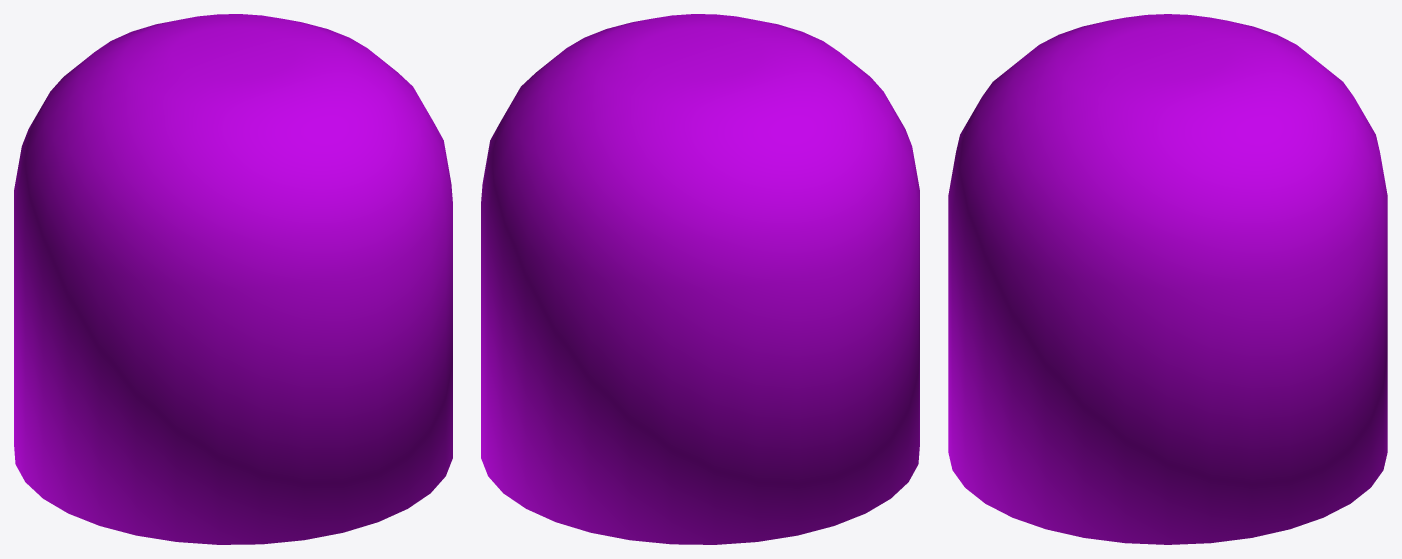
File: AnomalyBoton2Bolita.fbx
3 views of the same model, side by side, from view 1: azimuth 30°, elevation 25°; view 2: azimuth 150°, elevation 25°; view 3: azimuth 270°, elevation 25° (orthographic).
Visible parts, largest first — view 1: Cube.017; view 2: Cube.017; view 3: Cube.017.
Boxes of the visible parts, box(x1,y1,x2,y2) form: Cube.017: box(14, 14, 452, 544); Cube.017: box(481, 14, 919, 544); Cube.017: box(948, 14, 1387, 544).
Size of the model in its own units: 2.45 by 2.45 by 2.45.
